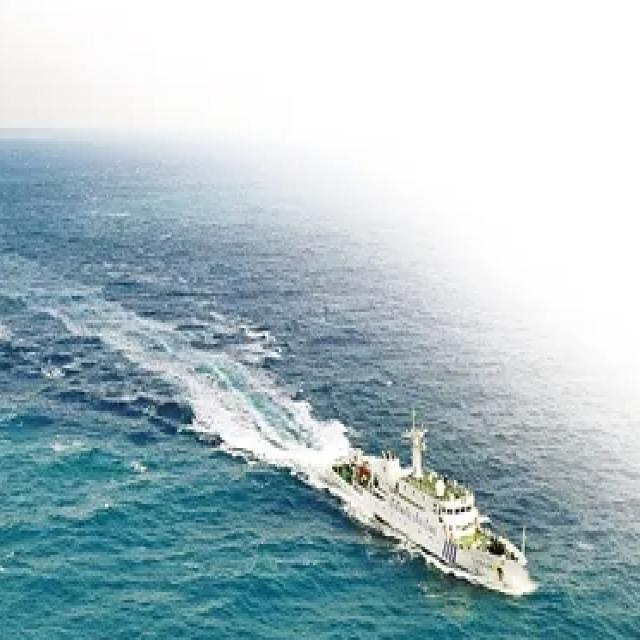passenger ship: (330, 419, 532, 600)
